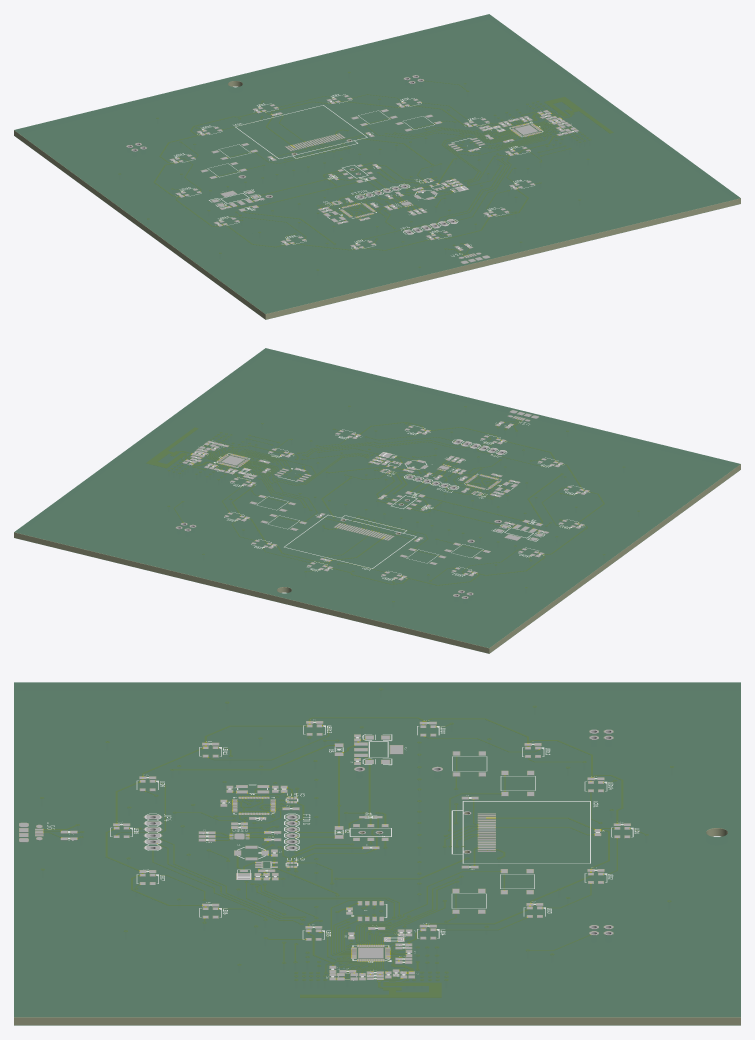
File: hacker-warehouse-badge-dc26.glb
3 renders of one model, top to bottom at view 1: azimuth 30°, elevation 25°; view 2: azimuth 150°, elevation 25°; view 3: azimuth 270°, elevation 25°, orthographic. The views are drawn at different scales.
Visible parts, largest first — view 1: =>[0:1:1:7], =>[0:1:1:9], =>[0:1:1:2], =>[0:1:1:5]; view 2: =>[0:1:1:7], =>[0:1:1:9], =>[0:1:1:2], =>[0:1:1:5]; view 3: =>[0:1:1:7], =>[0:1:1:9], =>[0:1:1:2], =>[0:1:1:5].
Part boxes in pixels (x1,y1,x2,y2): =>[0:1:1:7]: [14, 14, 740, 319]; =>[0:1:1:9]: [14, 15, 740, 319]; =>[0:1:1:2]: [126, 72, 612, 263]; =>[0:1:1:5]: [172, 94, 577, 256]; =>[0:1:1:7]: [14, 348, 740, 653]; =>[0:1:1:9]: [14, 349, 740, 653]; =>[0:1:1:2]: [147, 406, 603, 601]; =>[0:1:1:5]: [190, 421, 589, 580]; =>[0:1:1:7]: [14, 682, 740, 1025]; =>[0:1:1:9]: [14, 683, 740, 1025]; =>[0:1:1:2]: [19, 689, 673, 997]; =>[0:1:1:5]: [47, 719, 639, 980].
Size of the model in its own units: 0.1383 by 0.00166 by 0.1268.
Materials: 4 (4 with a texture image).
